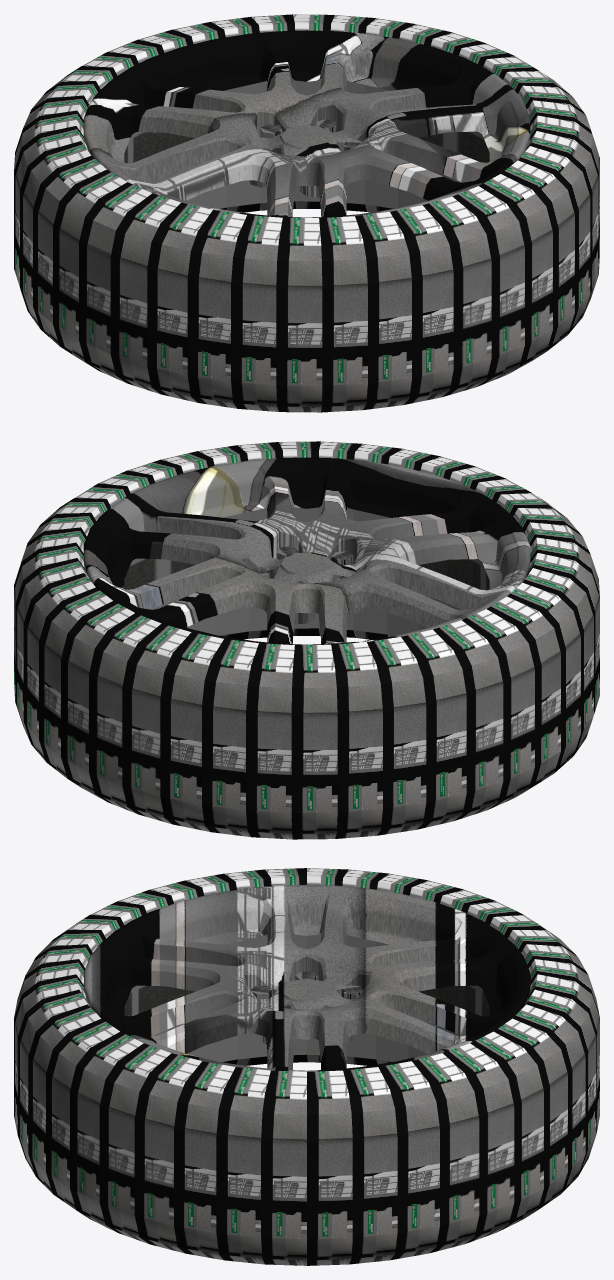
File: tire.obj
3 views of the same model, one above another, from view 1: azimuth 30°, elevation 25°; view 2: azimuth 150°, elevation 25°; view 3: azimuth 270°, elevation 25° (orthographic).
Parts seen in each view (by area): view 1: Tyre_with_; view 2: Tyre_with_; view 3: Tyre_with_.
Part boxes in pixels (<box>): Tyre_with_: <box>14,14,599,412</box>; Tyre_with_: <box>14,441,599,839</box>; Tyre_with_: <box>14,868,599,1265</box>.
Size of the model in its own units: 24.42 by 8.53 by 24.42.
